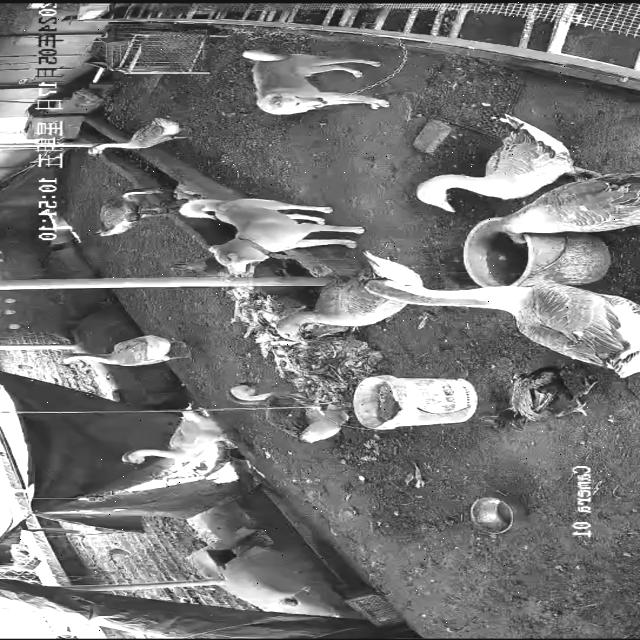dog: (179, 198, 367, 275), (242, 47, 392, 115)
